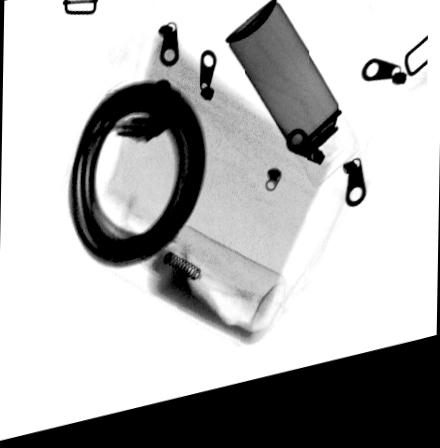Sprayer: (223, 9, 363, 203)
